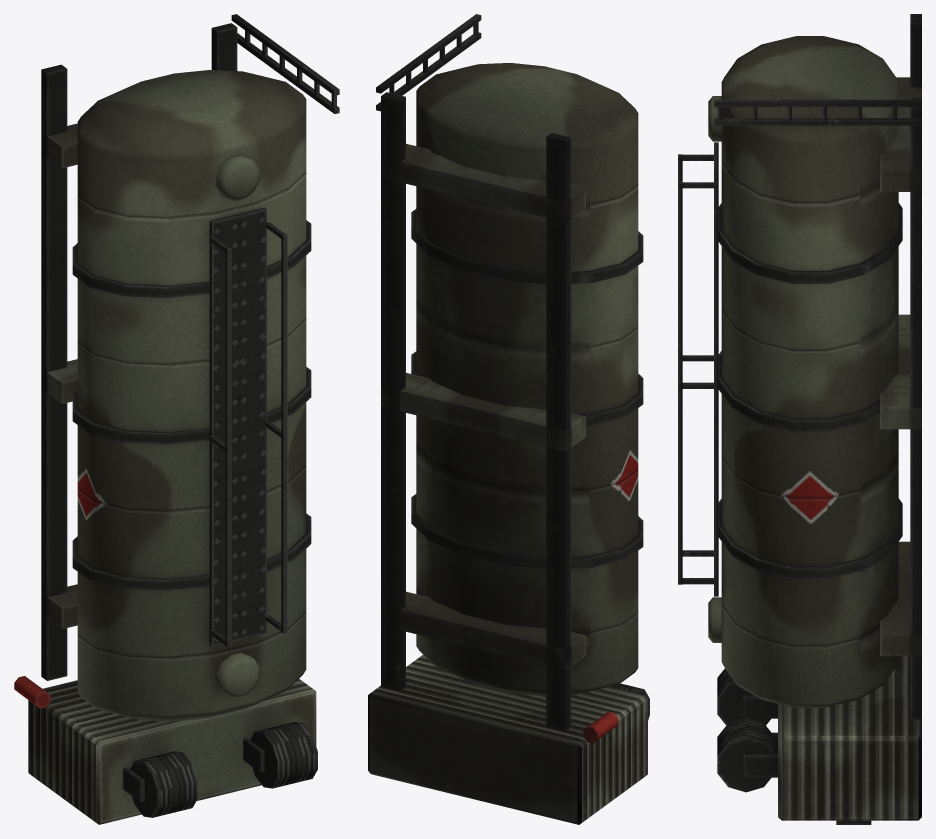
File: hemtt_fuel_module_pbr.glb
3 views of the same model, side by side, from view 1: azimuth 30°, elevation 25°; view 2: azimuth 150°, elevation 25°; view 3: azimuth 270°, elevation 25° (orthographic). The views are drawn at different scales.
Visible parts, largest first — view 1: hemtt_fuel_module_pbr; view 2: hemtt_fuel_module_pbr; view 3: hemtt_fuel_module_pbr.
Boxes of the visible parts, box(x1,y1,x2,y2) form: hemtt_fuel_module_pbr: box(14, 14, 339, 824); hemtt_fuel_module_pbr: box(368, 14, 649, 824); hemtt_fuel_module_pbr: box(678, 14, 921, 824).
Bounding box in the file's own units: 2.38 × 6.92 × 2.12.
1 material, 1 textured.
